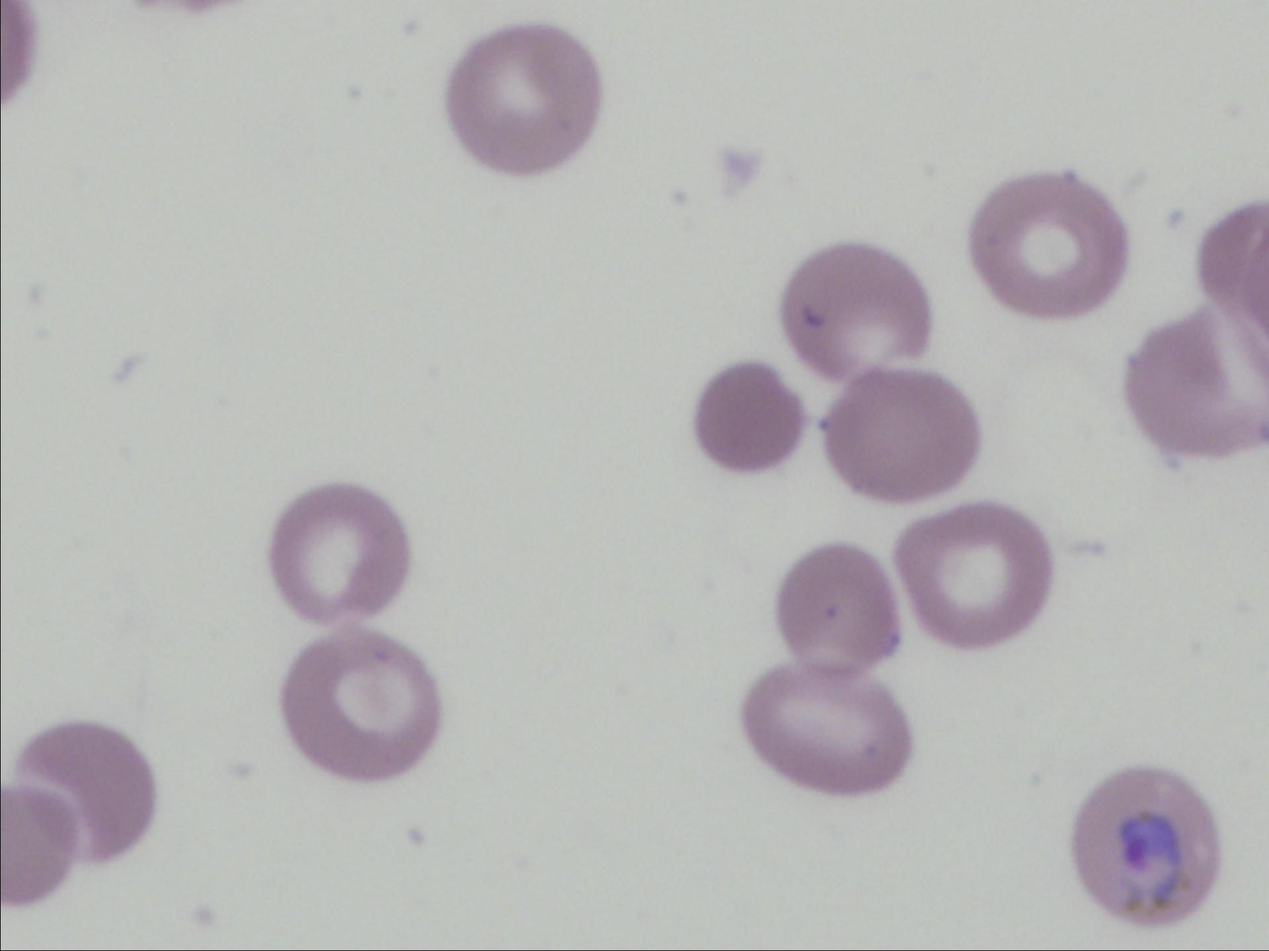Infected: (1071, 761, 1223, 928)
Uninfected: (441, 27, 607, 174), (747, 653, 909, 803), (969, 173, 1124, 326), (284, 635, 438, 787), (899, 505, 1058, 643), (776, 236, 927, 376), (269, 481, 407, 633), (824, 366, 975, 502), (22, 725, 159, 871), (1132, 309, 1263, 461), (775, 540, 896, 681), (694, 362, 800, 473)
